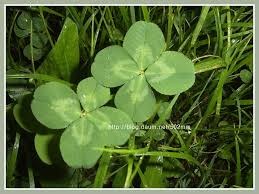4-clover: (91, 19, 195, 121), (31, 76, 133, 170)
